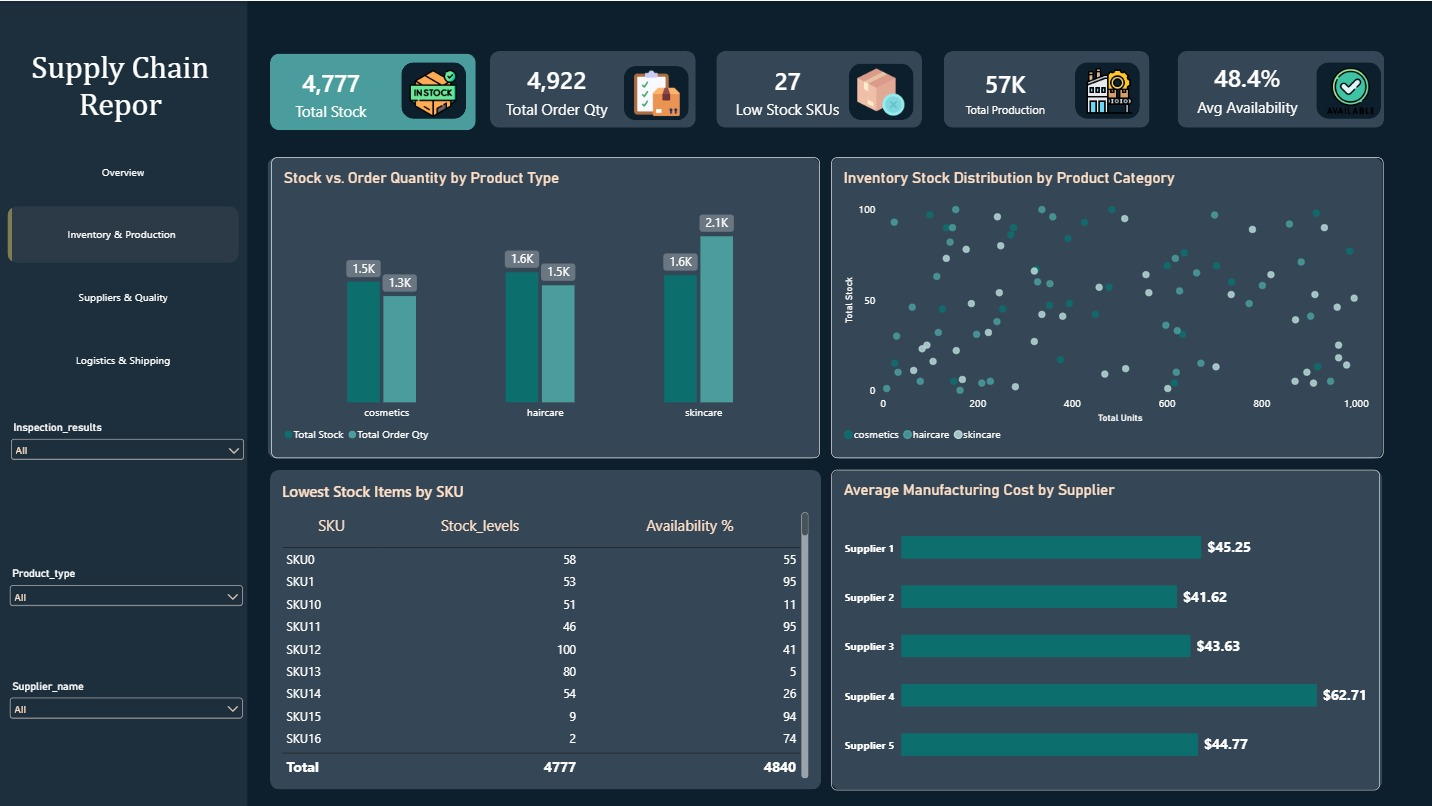

Layout of this report page (visuals, bound fields, positions):
{"tool":"powerbi","page":{"name":"Inventory & Production","canvas":[1920,1080],"ordinal":1},"visuals":[{"type":"shape","box":[0,2.9,86.9,75.9],"z":0,"group":"g1"},{"type":"group","id":"g1","title":"Group 1","box":[0,2.9,86.9,75.9],"z":0},{"type":"shape","box":[537.6,81.4,86.9,75.9],"z":0,"group":"g6"},{"type":"group","id":"g2","title":"Group 1","box":[1440,82.9,86.9,75.9],"z":0,"group":"g9"},{"type":"shape","box":[1440,82.9,86.9,75.9],"z":0,"group":"g2"},{"type":"group","id":"g3","title":"Group 3","box":[1764.3,82.9,86.9,75.9],"z":0,"group":"g10"},{"type":"shape","box":[1764.3,82.9,86.9,75.9],"z":0,"group":"g4"},{"type":"group","id":"g4","title":"Group 1","box":[1764.3,82.9,86.9,75.9],"z":0,"group":"g3"},{"type":"shape","box":[1137.1,84.3,86.9,75.9],"z":0,"group":"g5"},{"type":"group","id":"g5","title":"Group 1","box":[1137.1,84.3,86.9,75.9],"z":0,"group":"g8"},{"type":"shape","box":[835.7,87.1,87.1,72.9],"z":0,"group":"g7"},{"type":"shape","box":[0,0,331.4,1080],"z":1000},{"type":"shape","box":[362.2,70.3,275.7,102.9],"z":2000},{"type":"shape","box":[657.1,67.1,275.7,102.9],"z":3000},{"type":"shape","box":[1264.3,67.1,275.7,102.9],"z":4000},{"type":"shape","box":[1577.1,67.1,277.1,102.9],"z":5000},{"type":"shape","box":[960,67.1,275.7,102.9],"z":6000},{"type":"shape","box":[358.3,210,740,404.3],"z":7000},{"type":"shape","box":[1114.3,628.6,738.6,428.6],"z":8000},{"type":"shape","box":[1114.3,210,738.6,404.3],"z":9000},{"type":"shape","box":[361.4,628.6,738.6,428.6],"z":10000},{"type":"textbox","box":[12.9,67.1,295.7,111.4],"z":11000},{"type":"group","id":"g6","title":"Group 1","box":[537.6,81.4,86.9,75.9],"z":12000},{"type":"group","id":"g7","title":"Group 2","box":[835.7,87.1,87.1,72.9],"z":13000},{"type":"group","id":"g8","title":"Group 3","box":[1137.1,84.3,86.9,75.9],"z":14000},{"type":"group","id":"g9","title":"Group 3","box":[1440,82.9,86.9,75.9],"z":15000},{"type":"group","id":"g10","title":"Group 4","box":[1764.3,82.9,86.9,75.9],"z":16000},{"type":"card","fields":{"Values":["Measures (2).Total Stock"]},"box":[362.9,55.7,160,135.7],"z":17000},{"type":"card","fields":{"Values":["Measures (2).Total Order Qty"]},"box":[656.1,54.9,178.9,128.8],"z":18000},{"type":"card","fields":{"Values":["Measures (2).Low Stock SKUs"]},"box":[959.1,66.8,190.9,107.4],"z":19000},{"type":"card","fields":{"Values":["Measures (2).Avg Availability"]},"box":[1577.1,60,187.1,114.3],"z":20000},{"type":"card","fields":{"Values":["Measures (2).Total Production"]},"box":[1252.6,33.4,188.5,176.6],"z":21000},{"type":"slicer","fields":{"Values":["Status.Inspection_results"]},"box":[10,563.3,321.7,170],"z":22000},{"type":"slicer","fields":{"Values":["Summary_Type.Product_type"]},"box":[8.3,758.3,321.7,170],"z":23000},{"type":"slicer","fields":{"Values":["Fact_table.Supplier_name"]},"box":[8.3,910,321.7,170],"z":24000},{"type":"clusteredColumnChart","title":"Stock vs. Order Quantity by Product Type","fields":{"Category":["Summary_Type.Product_type"],"Y":["Measures (2).Total Stock","Measures (2).Total Order Qty"]},"box":[362.7,210,734.9,403.2],"z":25000},{"type":"scatterChart","title":" Inventory Stock Distribution by Product Category","fields":{"Category":["Fact_table.SKU"],"Series":["Summary_Type.Product_type"],"X":["Measures (2).Total Units"],"Y":["Measures (2).Total Stock"]},"box":[1114.2,210,739.6,403.2],"z":26000},{"type":"barChart","title":"Average Manufacturing Cost by Supplier","fields":{"Category":["Fact_table.Supplier_name"],"Y":["Measures (2).Avg Mfg Cost"]},"box":[1114.2,627.5,734.9,429.5],"z":28000},{"type":"image","box":[1441.3,88,89.3,63.4],"z":29000},{"type":"image","box":[535.6,91.9,89.3,63.4],"z":30000},{"type":"image","box":[835.8,91.9,89.3,63.4],"z":31000},{"type":"image","box":[1142.4,90.6,76.3,63.4],"z":32000},{"type":"image","box":[1764.7,88,89.3,63.4],"z":33000},{"type":"bookmarkNavigator","box":[10.4,190.2,310.5,329.9],"z":34000},{"type":"tableEx","title":"Lowest Stock Items by SKU","fields":{"Values":["Fact_table.SKU","Sum(Fact_table.Stock_levels)","Sum(Fact_table.Availability)"]},"box":[362.3,627.5,737.2,429.5],"z":34001}]}

Visuals, with their boxes on the page's 1920x1080 design canvas (x1, y1, x2, y2). These are canvas units, not pixel positions in the 1432x806 screenshot, which may show the page scaled, cropped or inside an application window:
shape: [x1=0, y1=3, x2=87, y2=79]
"Group 1" group: [x1=0, y1=3, x2=87, y2=79]
shape: [x1=538, y1=81, x2=624, y2=157]
"Group 1" group: [x1=1440, y1=83, x2=1527, y2=159]
shape: [x1=1440, y1=83, x2=1527, y2=159]
"Group 3" group: [x1=1764, y1=83, x2=1851, y2=159]
shape: [x1=1764, y1=83, x2=1851, y2=159]
"Group 1" group: [x1=1764, y1=83, x2=1851, y2=159]
shape: [x1=1137, y1=84, x2=1224, y2=160]
"Group 1" group: [x1=1137, y1=84, x2=1224, y2=160]
shape: [x1=836, y1=87, x2=923, y2=160]
shape: [x1=0, y1=0, x2=331, y2=1080]
shape: [x1=362, y1=70, x2=638, y2=173]
shape: [x1=657, y1=67, x2=933, y2=170]
shape: [x1=1264, y1=67, x2=1540, y2=170]
shape: [x1=1577, y1=67, x2=1854, y2=170]
shape: [x1=960, y1=67, x2=1236, y2=170]
shape: [x1=358, y1=210, x2=1098, y2=614]
shape: [x1=1114, y1=629, x2=1853, y2=1057]
shape: [x1=1114, y1=210, x2=1853, y2=614]
shape: [x1=361, y1=629, x2=1100, y2=1057]
textbox: [x1=13, y1=67, x2=309, y2=178]
"Group 1" group: [x1=538, y1=81, x2=624, y2=157]
"Group 2" group: [x1=836, y1=87, x2=923, y2=160]
"Group 3" group: [x1=1137, y1=84, x2=1224, y2=160]
"Group 3" group: [x1=1440, y1=83, x2=1527, y2=159]
"Group 4" group: [x1=1764, y1=83, x2=1851, y2=159]
card - Measures (2).Total Stock: [x1=363, y1=56, x2=523, y2=191]
card - Measures (2).Total Order Qty: [x1=656, y1=55, x2=835, y2=184]
card - Measures (2).Low Stock SKUs: [x1=959, y1=67, x2=1150, y2=174]
card - Measures (2).Avg Availability: [x1=1577, y1=60, x2=1764, y2=174]
card - Measures (2).Total Production: [x1=1253, y1=33, x2=1441, y2=210]
slicer - Status.Inspection_results: [x1=10, y1=563, x2=332, y2=733]
slicer - Summary_Type.Product_type: [x1=8, y1=758, x2=330, y2=928]
slicer - Fact_table.Supplier_name: [x1=8, y1=910, x2=330, y2=1080]
"Stock vs. Order Quantity by Product Type" clusteredColumnChart: [x1=363, y1=210, x2=1098, y2=613]
" Inventory Stock Distribution by Product Category" scatterChart: [x1=1114, y1=210, x2=1854, y2=613]
"Average Manufacturing Cost by Supplier" barChart: [x1=1114, y1=628, x2=1849, y2=1057]
image: [x1=1441, y1=88, x2=1531, y2=151]
image: [x1=536, y1=92, x2=625, y2=155]
image: [x1=836, y1=92, x2=925, y2=155]
image: [x1=1142, y1=91, x2=1219, y2=154]
image: [x1=1765, y1=88, x2=1854, y2=151]
bookmarkNavigator: [x1=10, y1=190, x2=321, y2=520]
"Lowest Stock Items by SKU" tableEx: [x1=362, y1=628, x2=1100, y2=1057]
